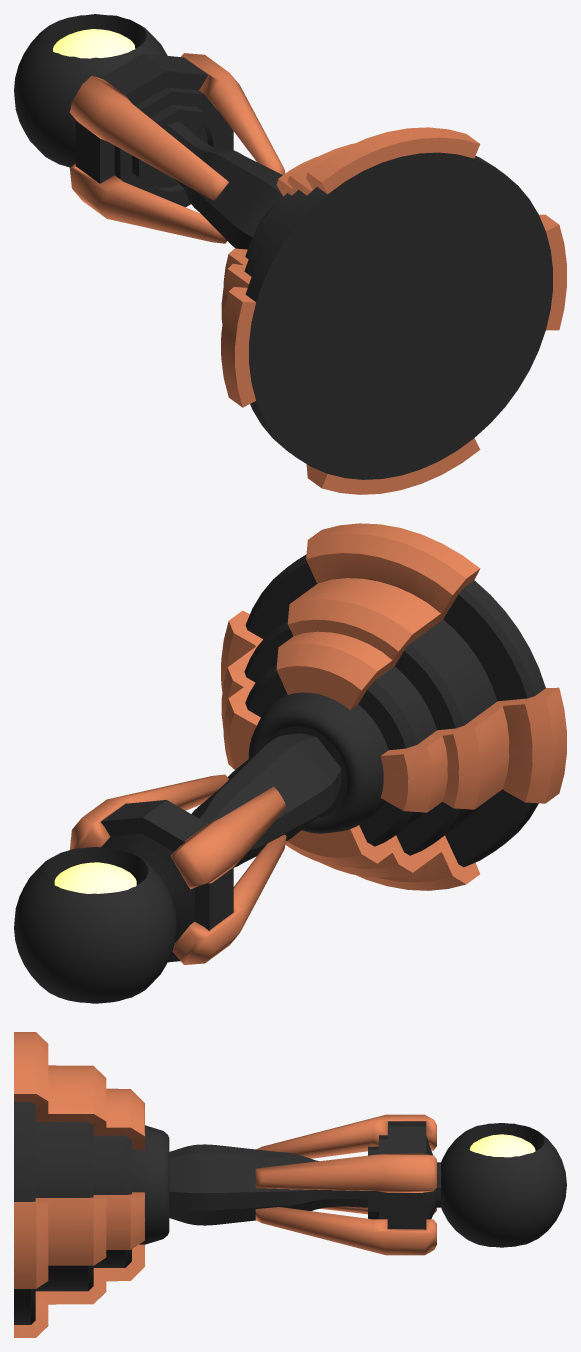
Rendered from PlasmaTower3.fbx.
3 renders of one model, top to bottom at view 1: azimuth 30°, elevation 25°; view 2: azimuth 150°, elevation 25°; view 3: azimuth 270°, elevation 25°, orthographic. The views are drawn at different scales.
Visible parts, largest first — view 1: Cylinder.002, Cylinder.004, Cylinder.001, Sphere, Cylinder.008, Cube.003, Cylinder.007, Slice; view 2: Cylinder.002, Cylinder.008, Cylinder.007, Sphere, Cylinder.004, Cube.003, Cylinder.001, Slice; view 3: Cylinder.002, Cylinder.004, Sphere, Cylinder.008, Cube.003, Cylinder.007, Cylinder.001, Slice.
Boxes of the visible parts, bbox=[...] form: Cylinder.002: bbox=[244, 152, 552, 479]; Cylinder.004: bbox=[69, 53, 285, 243]; Cylinder.001: bbox=[75, 53, 233, 207]; Sphere: bbox=[14, 14, 167, 167]; Cylinder.008: bbox=[276, 127, 480, 494]; Cube.003: bbox=[158, 122, 283, 249]; Cylinder.007: bbox=[221, 214, 566, 407]; Slice: bbox=[53, 29, 135, 58]; Cylinder.002: bbox=[244, 554, 545, 867]; Cylinder.008: bbox=[276, 523, 480, 890]; Cylinder.007: bbox=[221, 610, 566, 812]; Sphere: bbox=[14, 847, 176, 1003]; Cylinder.004: bbox=[70, 774, 286, 964]; Cube.003: bbox=[191, 733, 341, 867]; Cylinder.001: bbox=[101, 800, 233, 962]; Slice: bbox=[54, 862, 136, 893]; Cylinder.002: bbox=[14, 1102, 169, 1324]; Cylinder.004: bbox=[255, 1114, 436, 1255]; Sphere: bbox=[441, 1123, 566, 1247]; Cylinder.008: bbox=[14, 1032, 144, 1337]; Cube.003: bbox=[169, 1144, 367, 1225]; Cylinder.007: bbox=[14, 1192, 144, 1288]; Cylinder.001: bbox=[368, 1121, 441, 1229]; Slice: bbox=[469, 1134, 535, 1157].
Size of the model in its own units: 1262 by 1265 by 2282.
